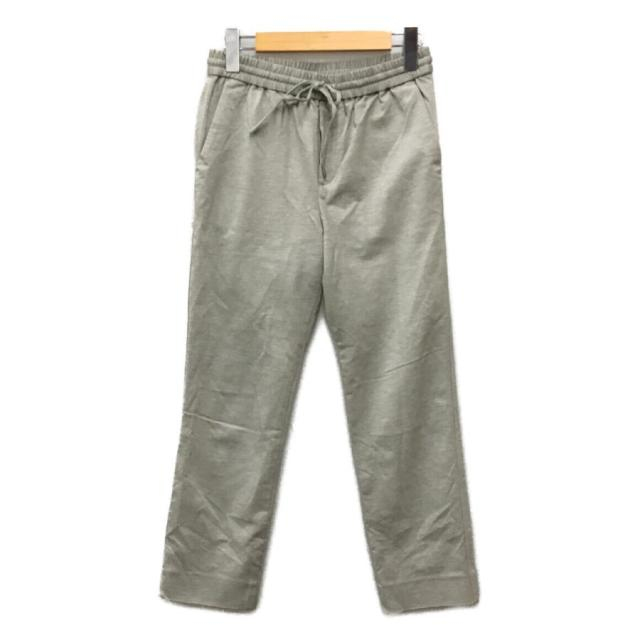long-pants: (160, 41, 480, 614)
